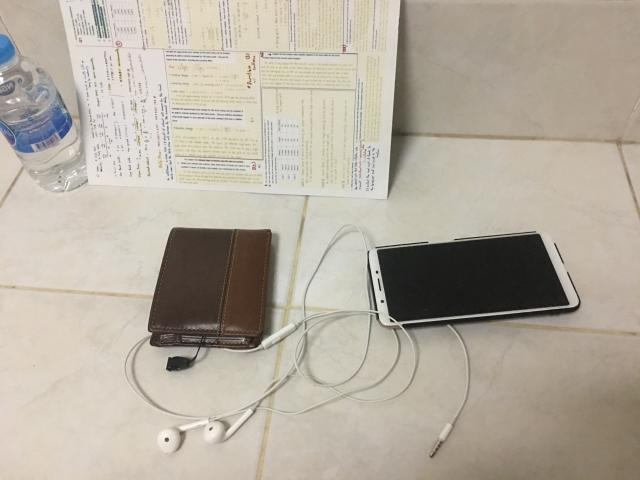Mobile phone: (369, 231, 580, 328)
Wallet: (148, 228, 271, 349)
bottle: (0, 35, 88, 192)
paper: (60, 0, 400, 199)
wire: (158, 370, 293, 453)
